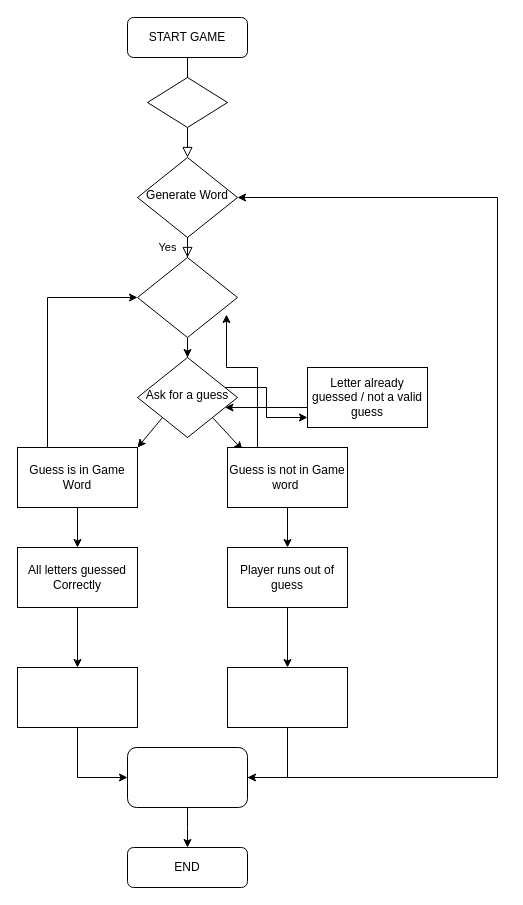
The diagram is 523 pixels wide and 905 high, and some of its shapes have lost their labels. The shapes that lost their labels are listed below. From the top down, each one's box as (x1, y1, x2, y2) in pixels, then its label:
(146, 76, 228, 128): Ask for Difficulty
(136, 256, 238, 338): Show Gameboard
(16, 666, 138, 728): Win State
(226, 666, 348, 728): Lose State
(126, 746, 248, 808): Ask Player to play again
